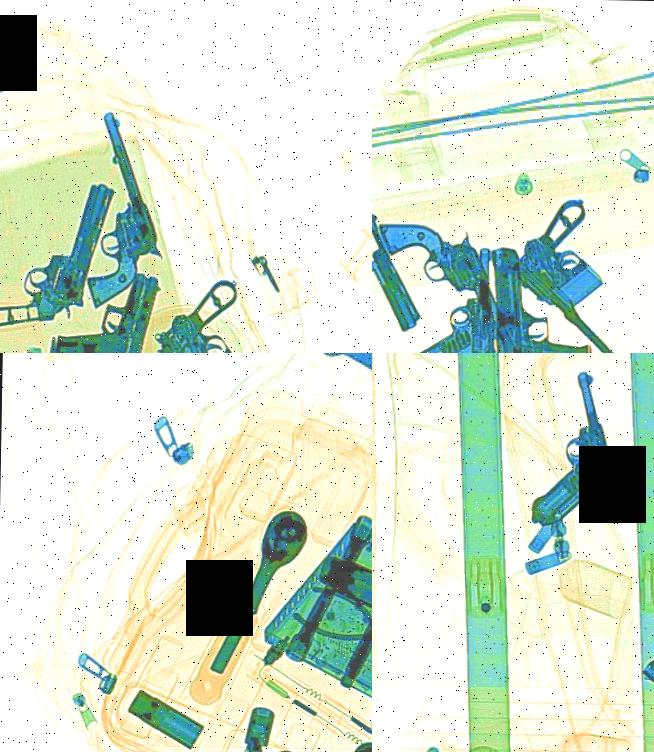Gun: (30, 107, 178, 310), (478, 193, 654, 353), (498, 362, 632, 548), (372, 204, 527, 353), (0, 161, 115, 349), (138, 274, 329, 353), (487, 241, 597, 353), (42, 254, 161, 353), (397, 242, 497, 353), (372, 201, 429, 346)
Pliers: (287, 576, 372, 671)
Wrench: (306, 353, 372, 460)
